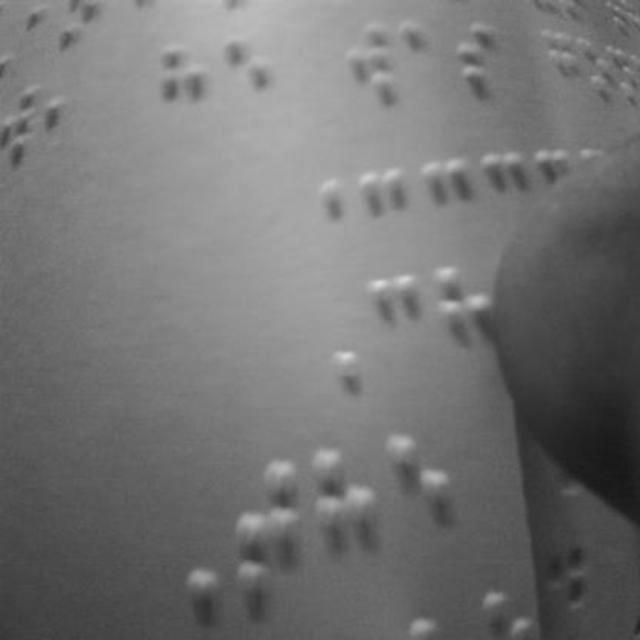braiile: (228, 458, 304, 612), (307, 443, 383, 593), (388, 430, 460, 578), (366, 266, 430, 384), (156, 40, 216, 152), (342, 19, 400, 131), (224, 32, 276, 144), (454, 16, 510, 120), (402, 16, 448, 122)
